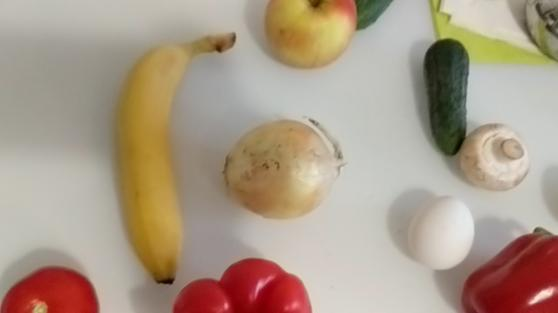banana: (121, 24, 242, 291)
cucumber: (422, 34, 475, 152)
egg: (413, 194, 477, 274), (464, 123, 531, 194)
onion: (222, 116, 343, 219)
pepper: (460, 226, 558, 313), (165, 259, 315, 313)
tomato: (3, 266, 99, 313)
